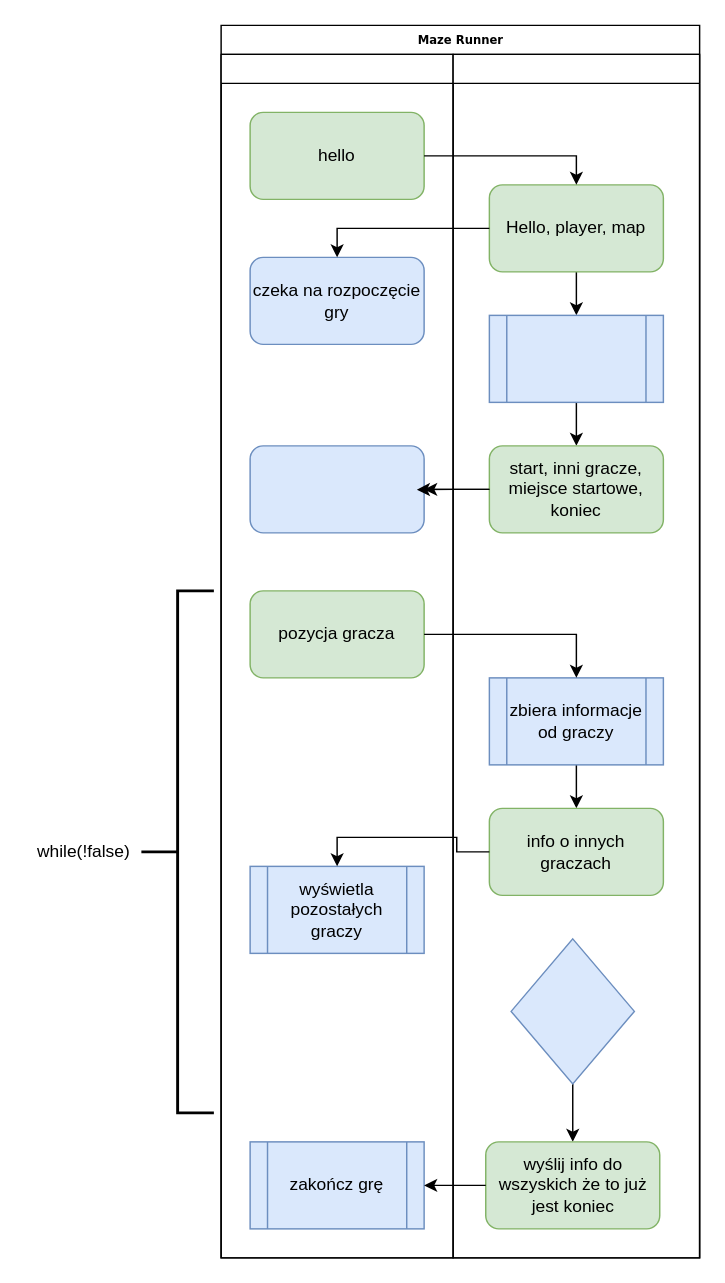
This 725x1283 diagram has some shape labels left out. Here are the shapes that lost their labels. From the top down, the box of each, then its label:
(488, 314, 663, 402): czekamy aż będzie 2 graczy
(249, 444, 424, 533): start gry
(220, 53, 453, 1258): Client
(452, 53, 700, 1258): Server
(510, 937, 634, 1084): jeśli gracz dotarł do konca
